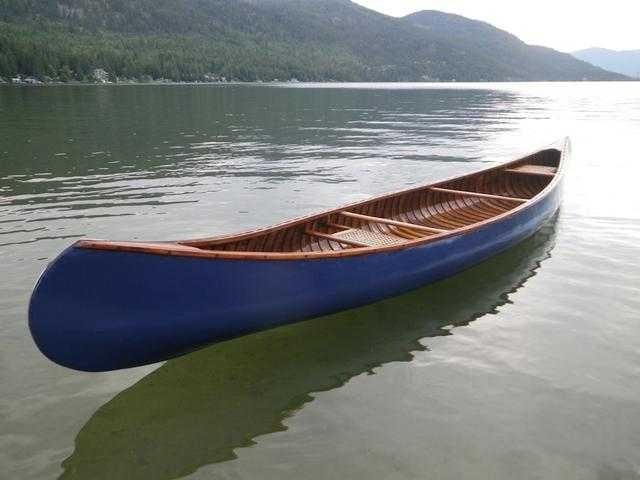kayak: (28, 139, 571, 376)
